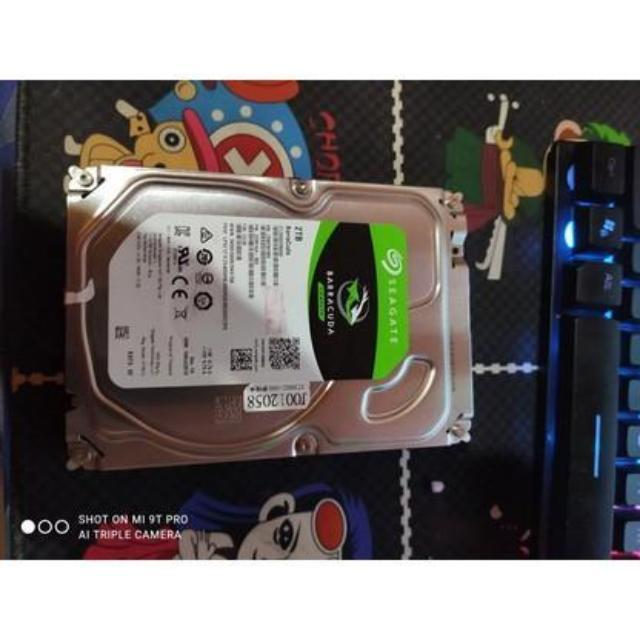DISK: (51, 160, 478, 477)
